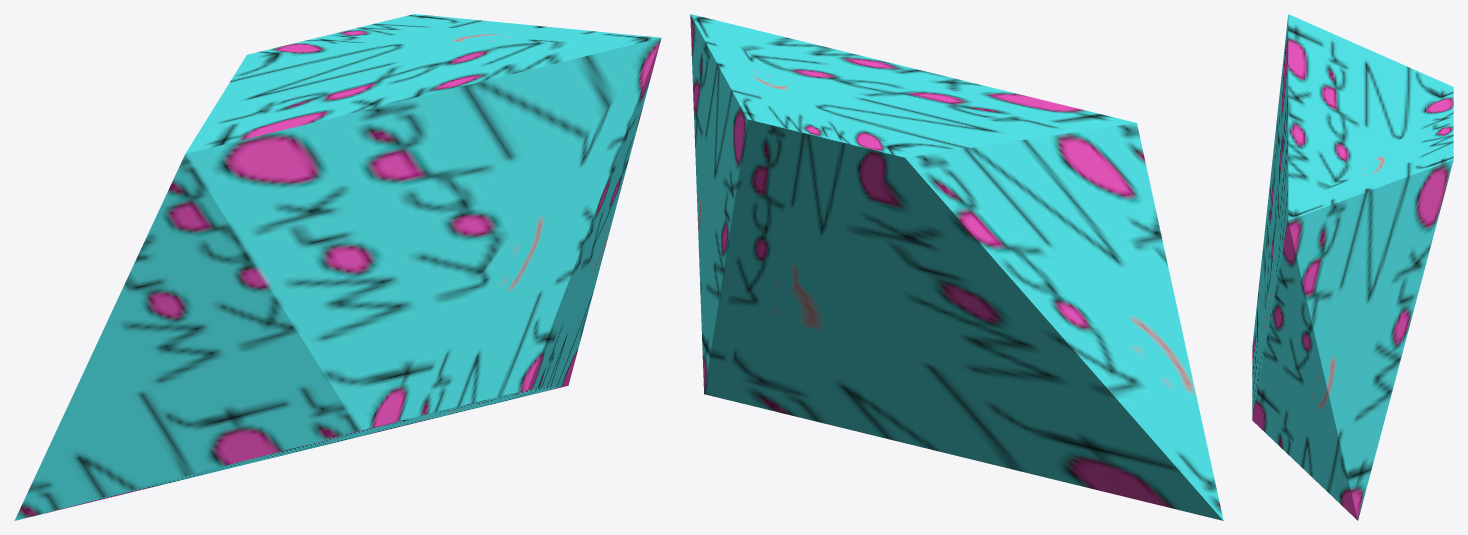
3 views of the same model, side by side, from view 1: azimuth 30°, elevation 25°; view 2: azimuth 150°, elevation 25°; view 3: azimuth 270°, elevation 25° (orthographic). The views are drawn at different scales.
Parts seen in each view (by area): view 1: Cube; view 2: Cube; view 3: Cube.
Boxes of the visible parts, left/top/right/bottom form: Cube: left=14, top=14, right=661, bottom=520; Cube: left=690, top=14, right=1223, bottom=520; Cube: left=1252, top=14, right=1453, bottom=520.
Size of the model in its own units: 2169 by 1240 by 700.
Materials: 1 (1 with a texture image).
